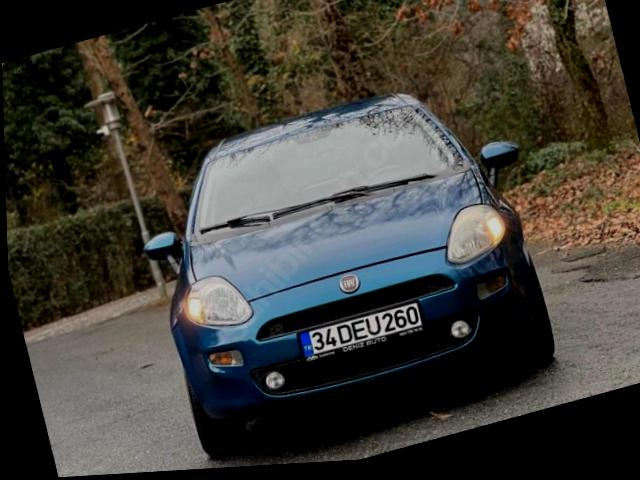plaka: (300, 302, 422, 358)
